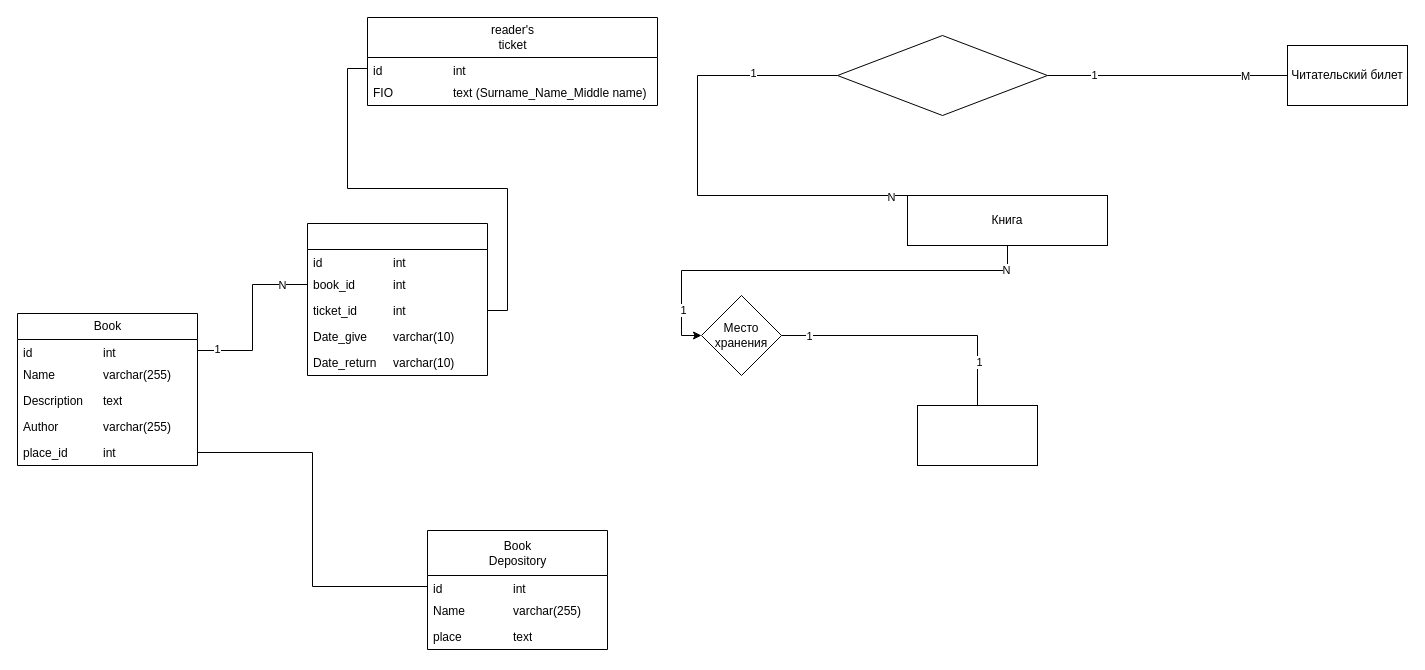
The diagram is 1425 pixels wide and 670 high, and some of its shapes have lost their labels. The shapes that lost their labels are listed below. From the top down, each one's box as (x1, y1, x2, y2) in pixels, then its label:
(836, 34, 1048, 116): История Выдачи
(306, 222, 488, 376): History
(916, 404, 1038, 466): Книгохранилище
